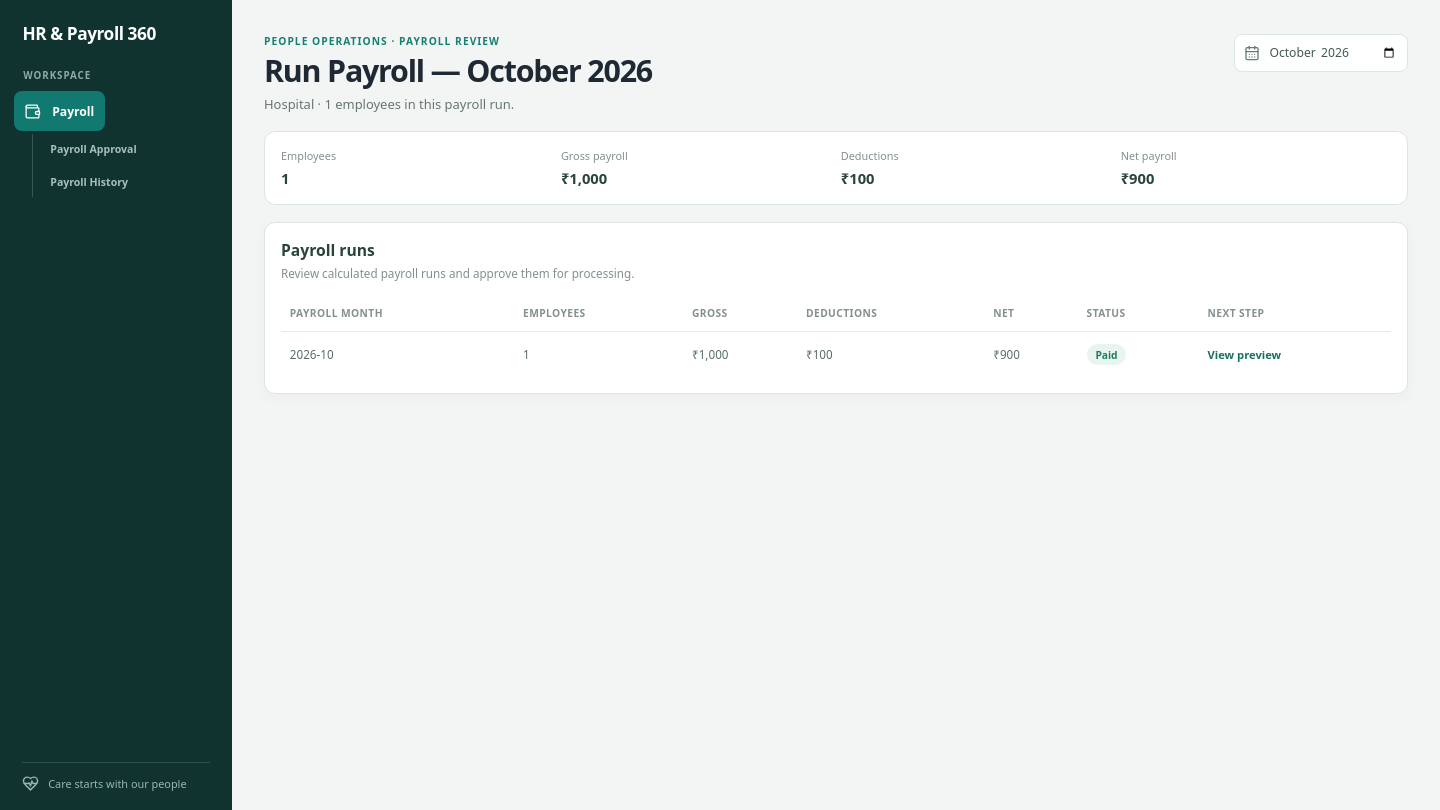
Scenario: PayrollPage › loads all pay periods in Payroll History and exits an open payroll preview
Click the button "View preview": {"x": 1244, "y": 355} [1208,344,1281,365]
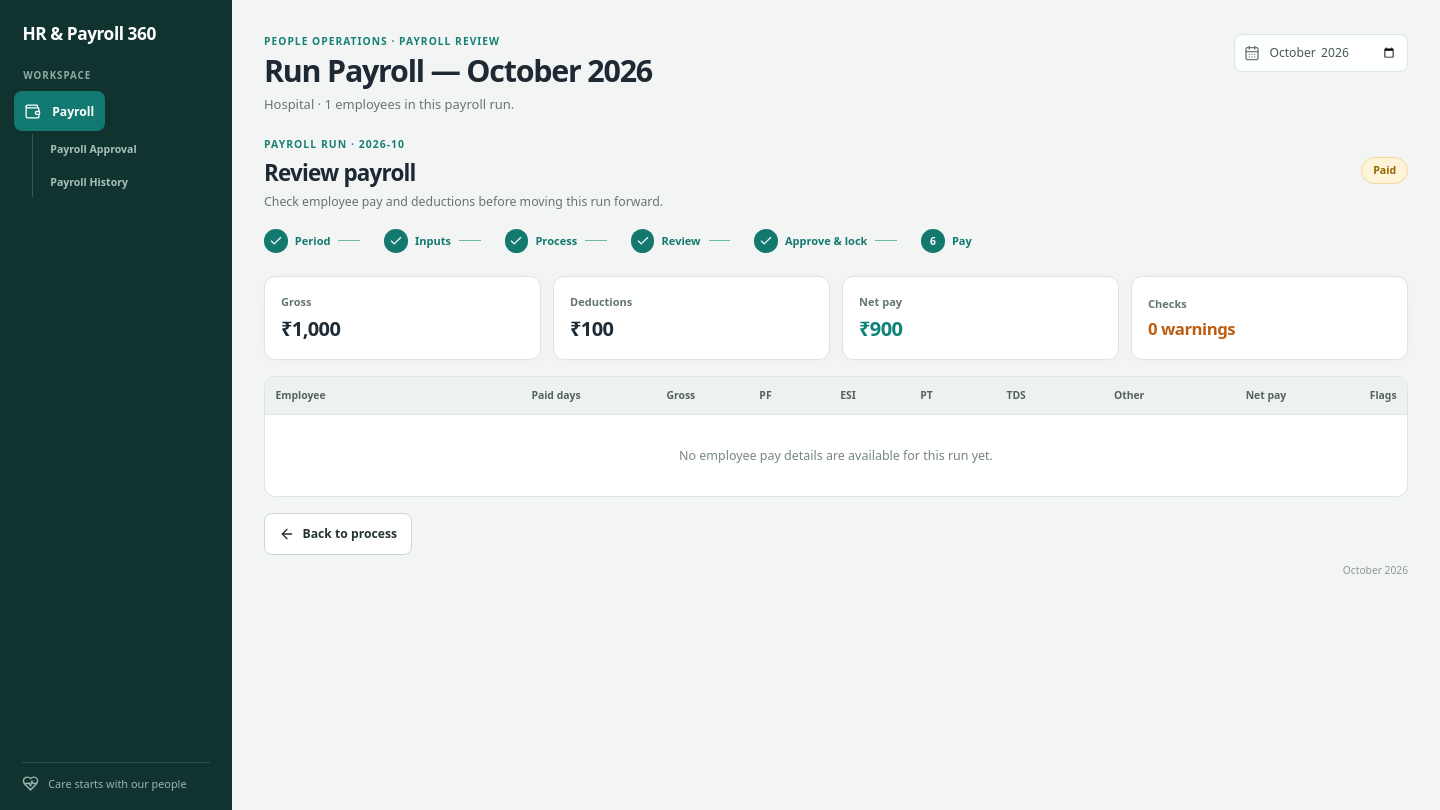
Check: the heading "Review payroll" is shown, box [264,156,416,188]
Click the button "Payroll History": {"x": 130, "y": 182} [42,166,218,197]
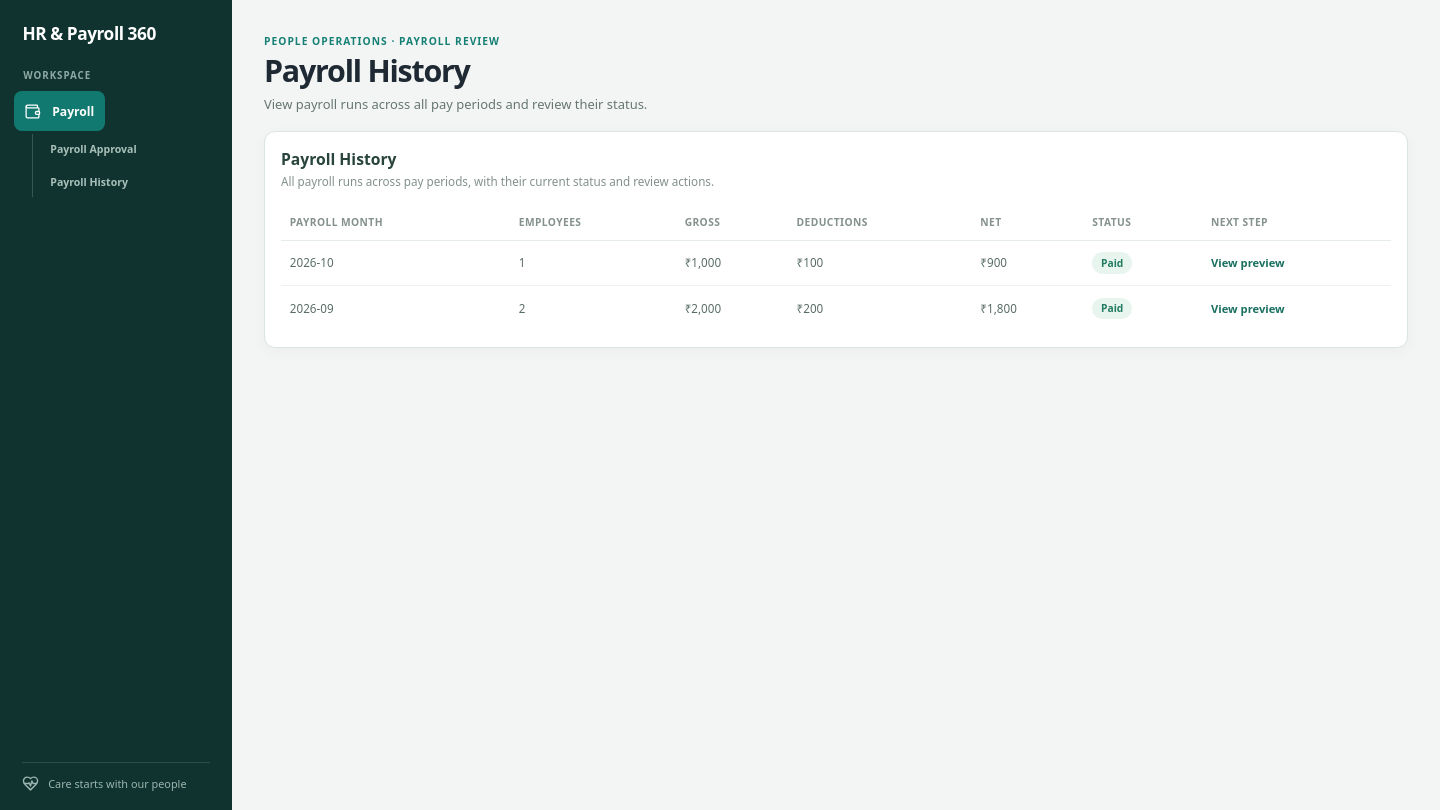
Check: the heading "Payroll History" below "PEOPLE OPERATIONS · PAYROLL REVIEW" is shown, box [264,50,470,91]
Check: the text "2026-09" is shown, box [281,286,510,331]
